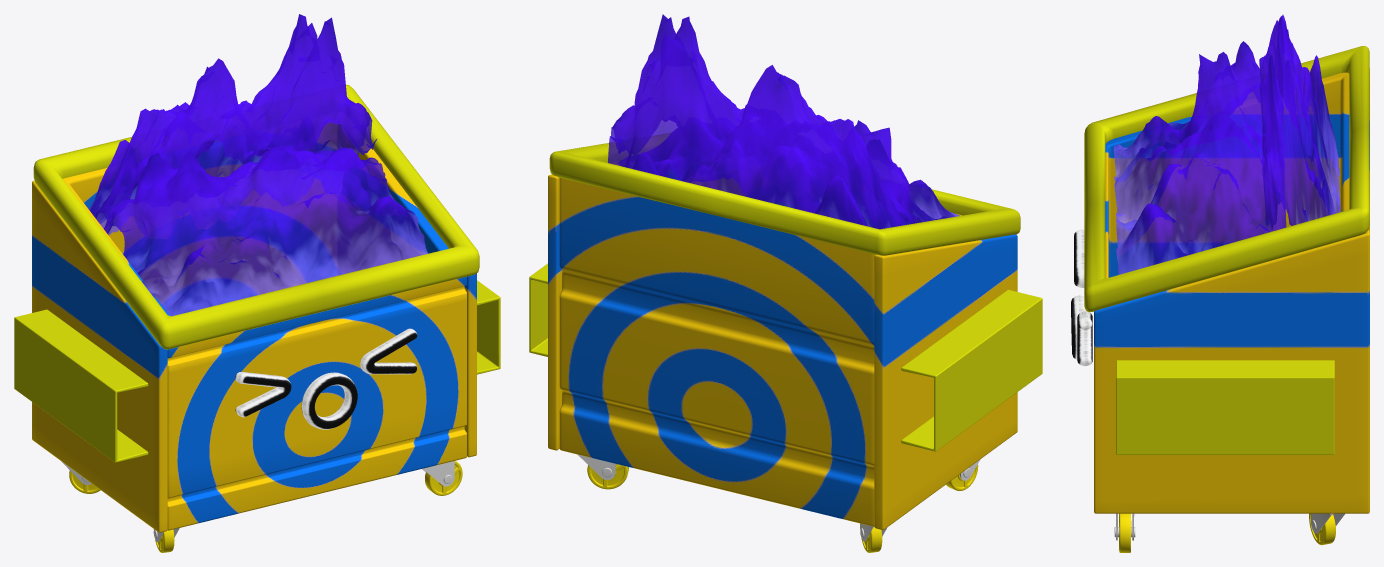
3 renders of one model, left to right at view 1: azimuth 30°, elevation 25°; view 2: azimuth 150°, elevation 25°; view 3: azimuth 270°, elevation 25°, orthographic. The views are drawn at different scales.
Visible parts, largest first — view 1: Dumpster Geometry, Small Fire.005, Fire Small Back.005, Wheel Holder; view 2: Dumpster Geometry, Fire Small Back.005, Small Fire.005, Wheel Holder; view 3: Dumpster Geometry, Small Fire.005, Fire Small Back.005, Wheel Holder.
Boxes of the visible parts, x1,y1,x2,y2 form: Dumpster Geometry: (14,84,500,552); Small Fire.005: (104,145,427,316); Fire Small Back.005: (89,14,377,238); Wheel Holder: (61,461,454,541); Dumpster Geometry: (529,133,1042,552); Fire Small Back.005: (608,14,907,229); Small Fire.005: (618,120,959,228); Wheel Holder: (577,454,980,541); Dumpster Geometry: (1071,46,1369,552); Small Fire.005: (1113,41,1286,274); Fire Small Back.005: (1259,14,1340,230); Wheel Holder: (1114,513,1344,540).
Bounding box in the file's own units: 2.3 × 2.54 × 1.43.
Materials: 7 (4 with a texture image).
